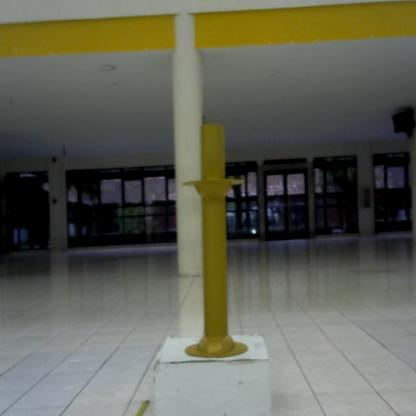pole: (179, 122, 251, 364)
